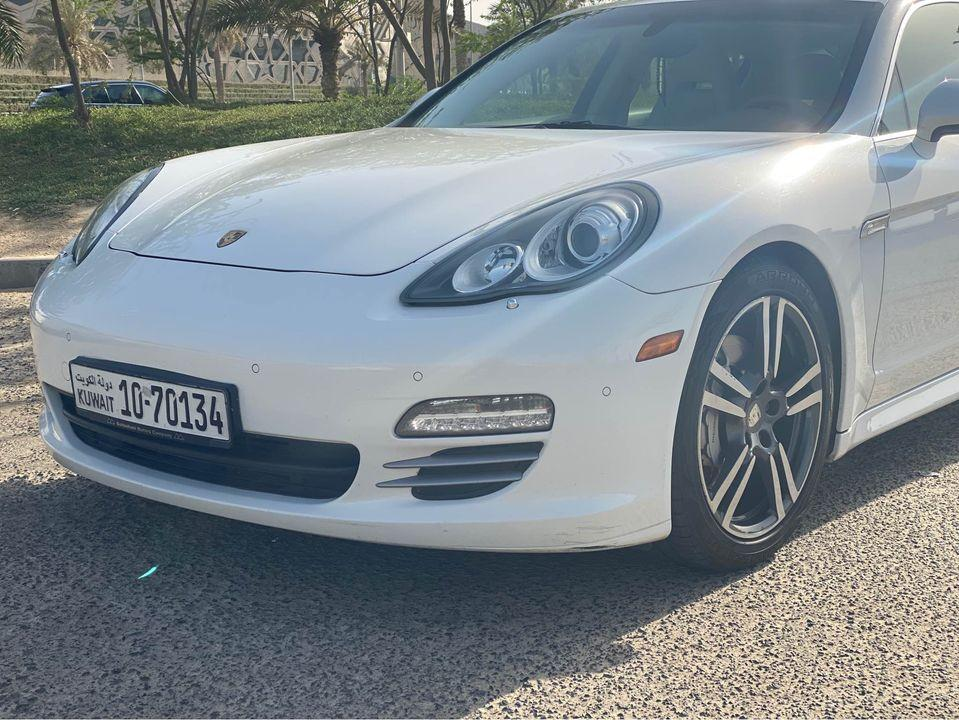porsche: (207, 222, 259, 250)
